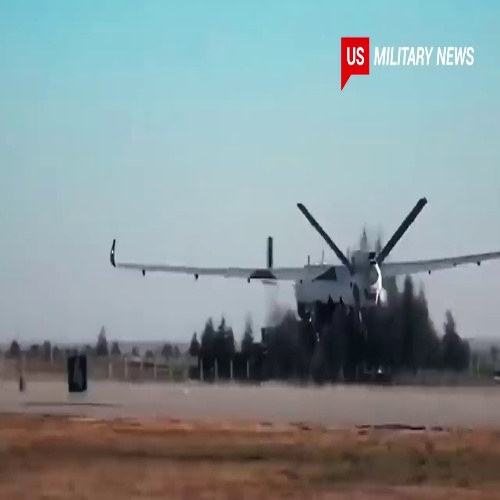uav743: (110, 198, 500, 342)
